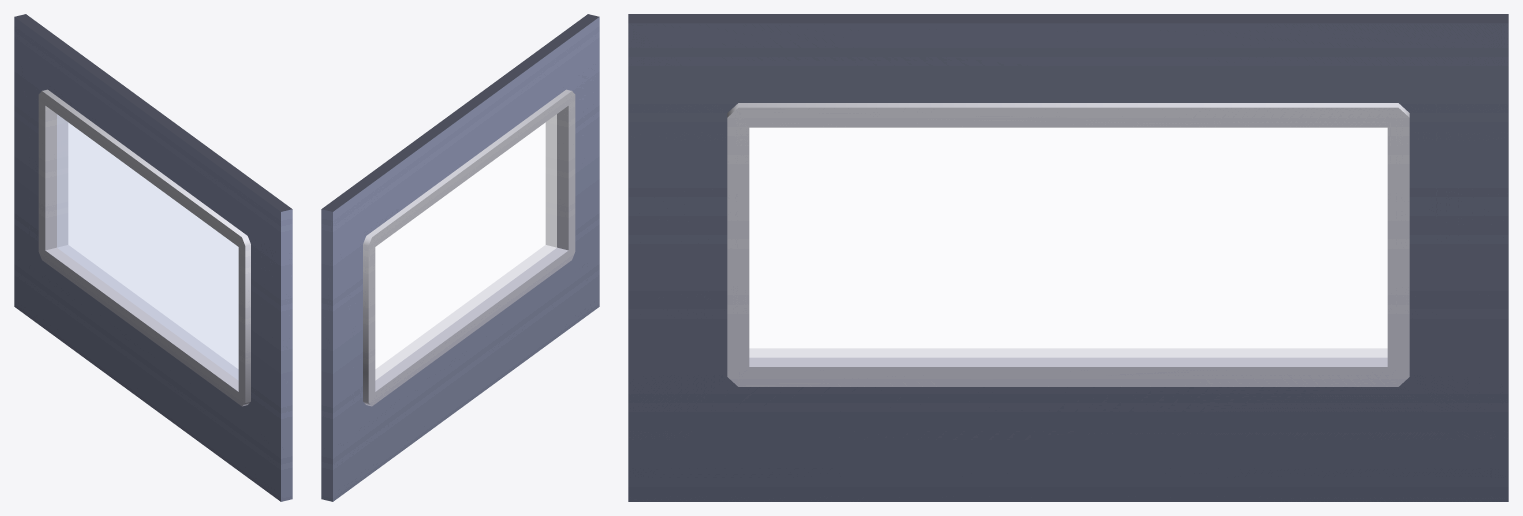
File: opengameart-kenney-building-kit_77.glb
The picture shows the model from 3 angles, left to right: view 1: azimuth 30°, elevation 25°; view 2: azimuth 150°, elevation 25°; view 3: azimuth 270°, elevation 25°; orthographic projection. The views are drawn at different scales.
Parts seen in each view (by area): view 1: wall-window-wide-square, (%ignore); view 2: wall-window-wide-square, (%ignore); view 3: wall-window-wide-square, (%ignore).
Boxes of the visible parts, x1,y1,x2,y2 form: wall-window-wide-square: [14, 14, 292, 501]; (%ignore): [57, 114, 238, 380]; wall-window-wide-square: [321, 14, 599, 501]; (%ignore): [375, 114, 556, 380]; wall-window-wide-square: [628, 14, 1508, 501]; (%ignore): [749, 127, 1387, 357].
Bounding box in the file's own units: 0.2 × 2.4 × 4.
Materials: 2 (1 with a texture image).
